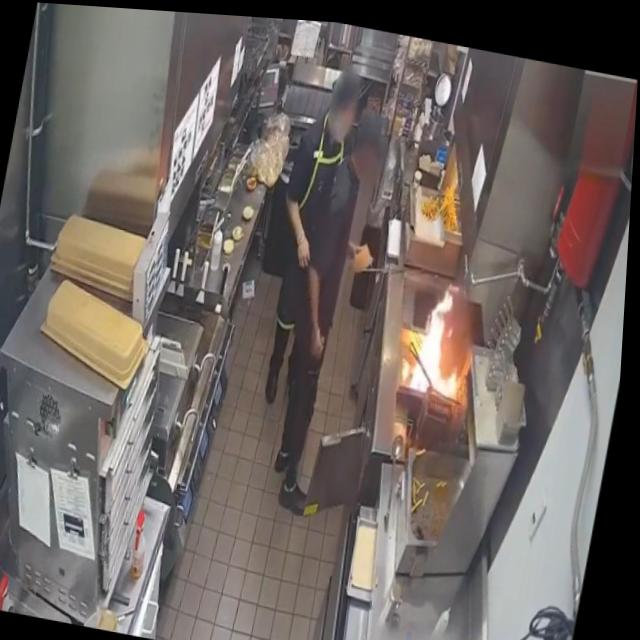fire: (407, 266, 481, 400)
